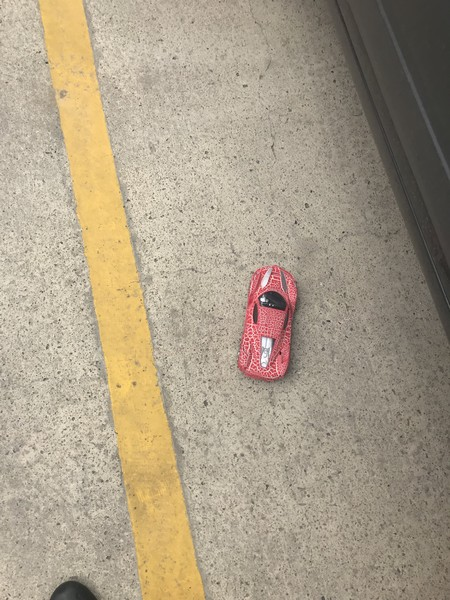RC: (237, 265, 301, 384)
